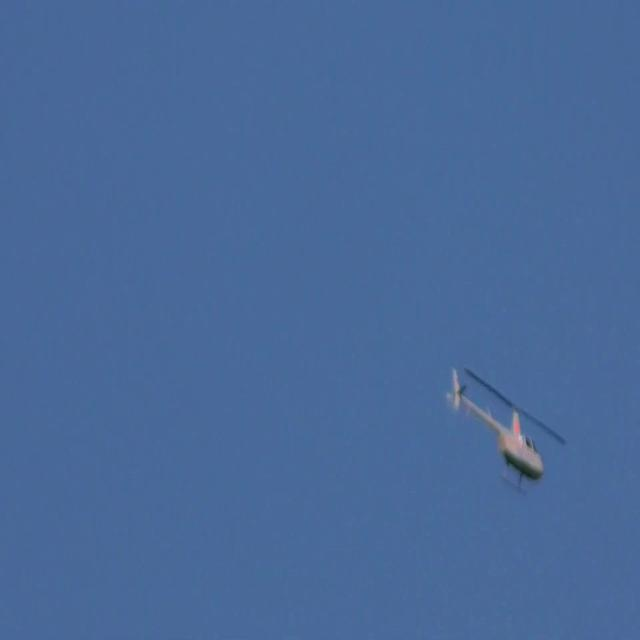CIV_HELO: (449, 368, 546, 494)
